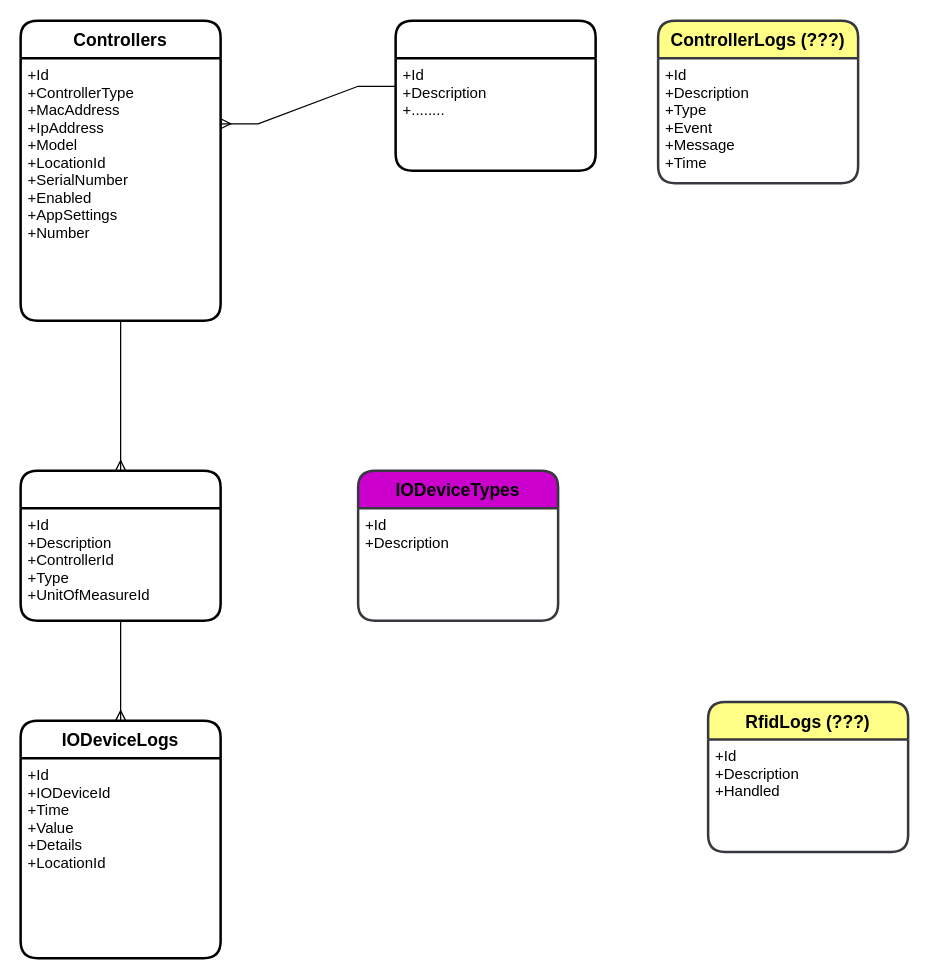
The diagram is 929 pixels wide and 979 high, and some of its shapes have lost their labels. Here are the shapes that lost their labels. From the top down, the box of each, then its label:
(394, 19, 596, 171): ControllerTypes
(19, 469, 221, 621): IODevices
